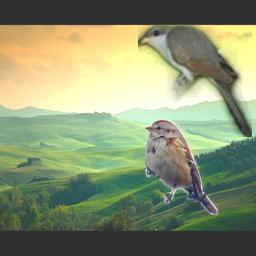Cuckoo: (138, 24, 252, 137)
Sparrow: (145, 118, 219, 215)
